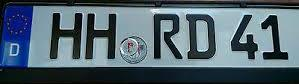1: (259, 13, 290, 62)
4: (229, 13, 260, 61)
D: (185, 12, 217, 61)
H: (50, 10, 82, 61), (85, 11, 117, 61)
R: (150, 11, 184, 60)
